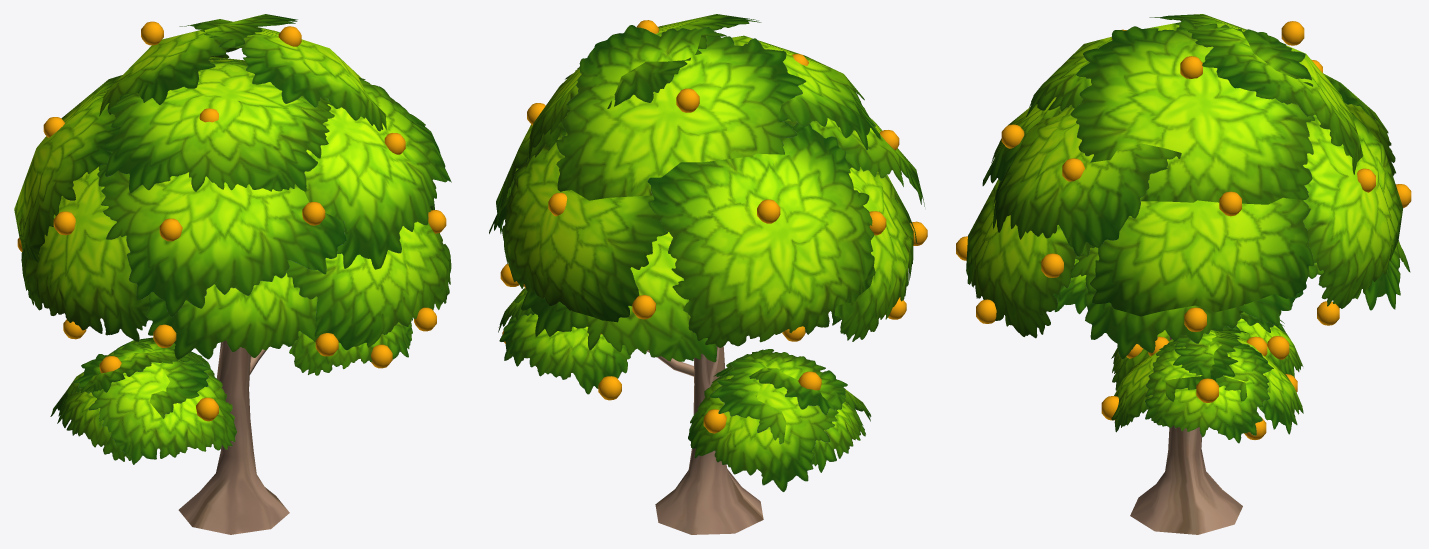
File: SM_Orange.fbx
3 views of the same model, side by side, from view 1: azimuth 30°, elevation 25°; view 2: azimuth 150°, elevation 25°; view 3: azimuth 270°, elevation 25° (orthographic). The views are drawn at different scales.
Parts seen in each view (by area): view 1: SN_Orange; view 2: SN_Orange; view 3: SN_Orange.
Boxes of the visible parts, x1,y1,x2,y2 form: SN_Orange: (14,14,451,534); SN_Orange: (489,14,927,534); SN_Orange: (956,14,1411,534).
Bounding box in the file's own units: 4400 × 5289 × 4513.
